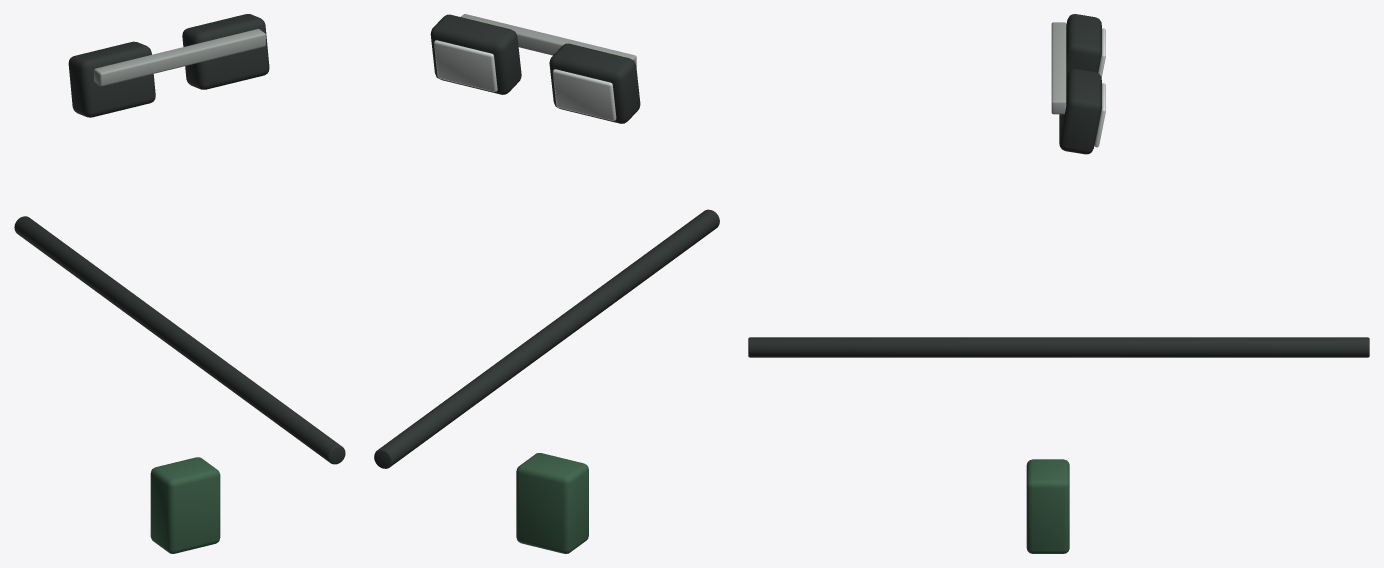
Rendered from floodlight.glb.
The picture shows the model from 3 angles, left to right: view 1: azimuth 30°, elevation 25°; view 2: azimuth 150°, elevation 25°; view 3: azimuth 270°, elevation 25°; orthographic projection. The views are drawn at different scales.
Visible parts, largest first — view 1: FloodMast, FloodJunction, FloodHousing-0.48, FloodHousing0.48, FloodCrossbar; view 2: FloodMast, FloodJunction, FloodHousing0.48, FloodHousing-0.48, FloodLens0.48, FloodLens-0.48, FloodCrossbar; view 3: FloodMast, FloodJunction, FloodHousing0.48, FloodHousing-0.48, FloodCrossbar.
Part boxes in pixels (bbox=[...]): FloodMast: bbox=[14, 216, 345, 464]; FloodJunction: bbox=[150, 457, 220, 553]; FloodHousing-0.48: bbox=[68, 41, 155, 117]; FloodHousing0.48: bbox=[182, 14, 269, 89]; FloodCrossbar: bbox=[94, 29, 265, 86]; FloodMast: bbox=[374, 209, 719, 468]; FloodJunction: bbox=[516, 453, 588, 553]; FloodHousing0.48: bbox=[430, 14, 521, 94]; FloodHousing-0.48: bbox=[549, 43, 640, 123]; FloodLens0.48: bbox=[434, 40, 497, 91]; FloodLens-0.48: bbox=[552, 69, 616, 120]; FloodCrossbar: bbox=[461, 14, 636, 67]; FloodMast: bbox=[748, 337, 1369, 357]; FloodJunction: bbox=[1026, 459, 1069, 553]; FloodHousing0.48: bbox=[1059, 69, 1101, 154]; FloodHousing-0.48: bbox=[1066, 14, 1101, 78]; FloodCrossbar: bbox=[1051, 22, 1066, 114].
Size of the model in its own units: 1.56 by 3.98 by 4.6.
